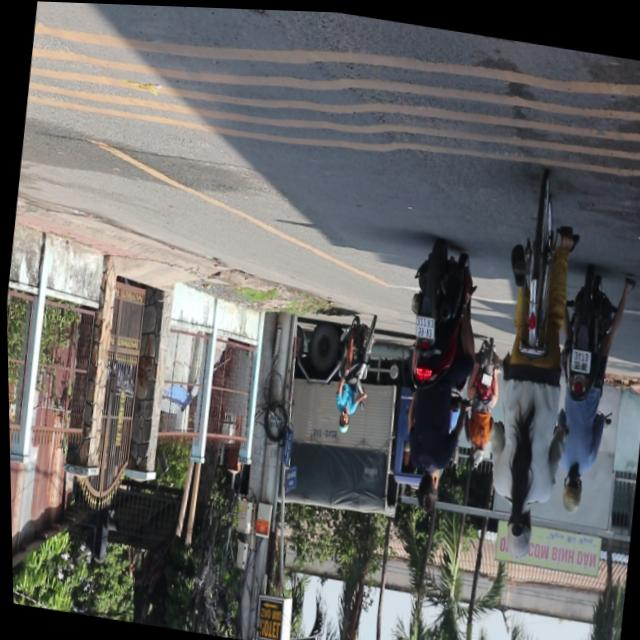helmet: (555, 468, 581, 511)
licenseplate: (380, 233, 488, 516), (534, 259, 632, 517)
motorcyclist: (410, 467, 438, 510)
nohelmet: (568, 345, 589, 369), (413, 313, 433, 336)
